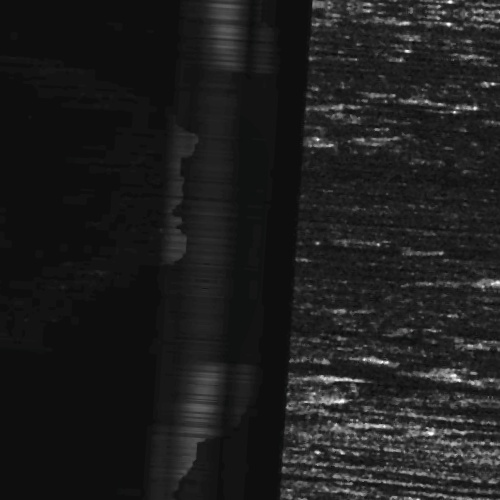shadow: (399, 202, 500, 211), (477, 12, 500, 21)
